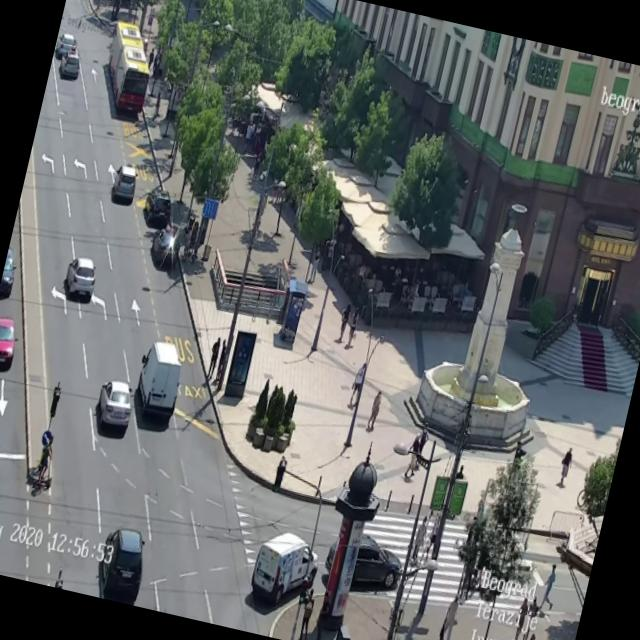bus: (96, 19, 160, 116)
car: (246, 525, 324, 613), (320, 526, 408, 596), (128, 336, 188, 424), (92, 523, 152, 604), (92, 376, 136, 434), (61, 252, 100, 302), (148, 227, 183, 266), (109, 162, 139, 205), (140, 188, 174, 225), (0, 313, 21, 370), (0, 246, 20, 300), (54, 32, 82, 59), (58, 51, 82, 80)
